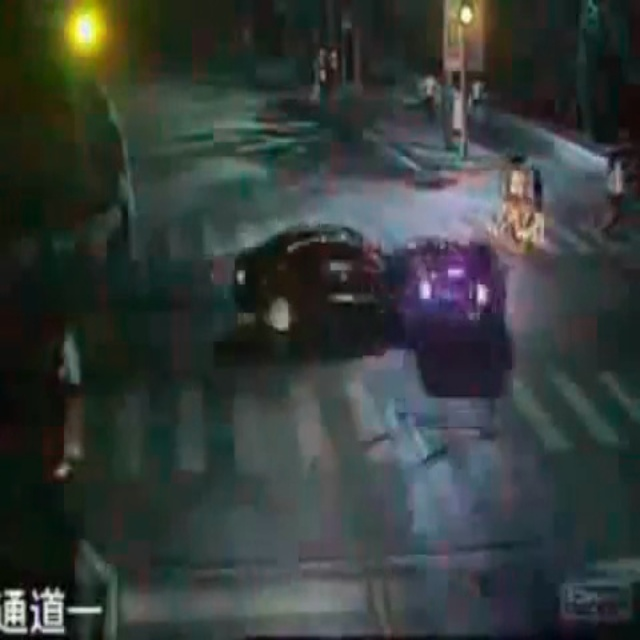acc: (215, 220, 505, 345)
